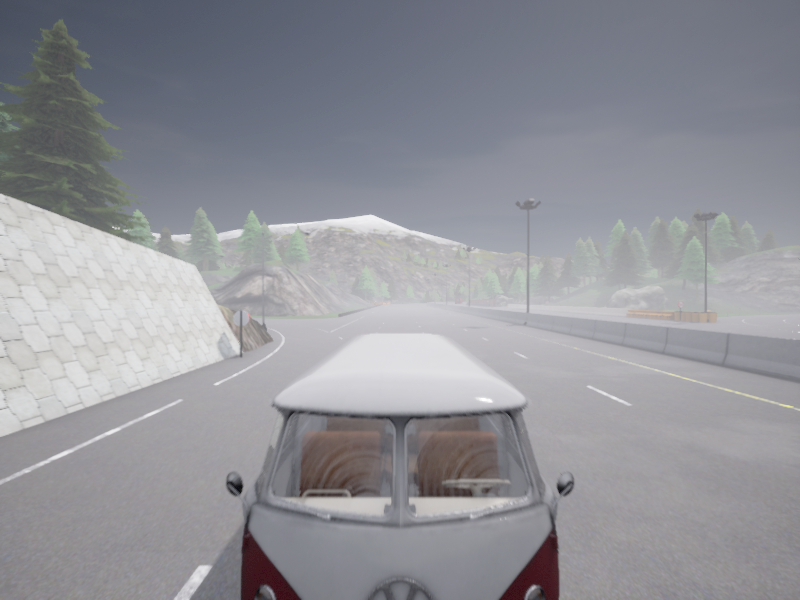vehicle: (226, 333, 573, 599), (455, 298, 462, 303)
